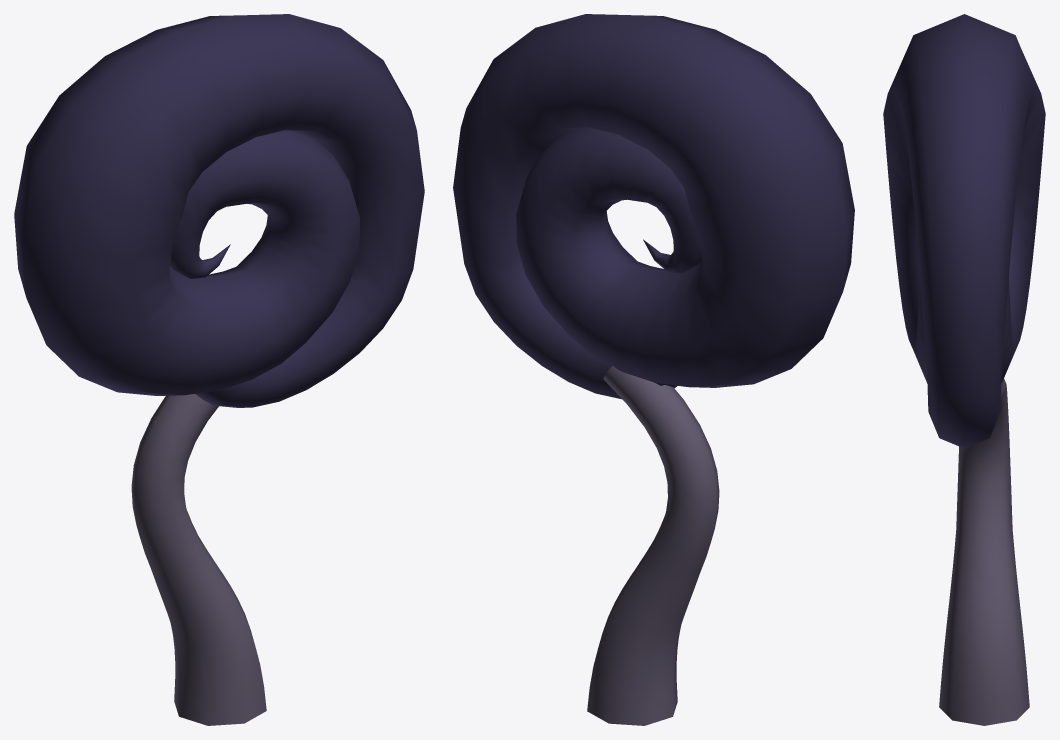
Rendered from quaternius-ultimate-space-tree-swirl-2.glb.
3 views of the same model, side by side, from view 1: azimuth 30°, elevation 25°; view 2: azimuth 150°, elevation 25°; view 3: azimuth 270°, elevation 25° (orthographic). The views are drawn at different scales.
Parts seen in each view (by area): view 1: Tree_Swirl_2; view 2: Tree_Swirl_2; view 3: Tree_Swirl_2.
Part boxes in pixels (x1=…): Tree_Swirl_2: x1=14, y1=14, x2=424, y2=725; Tree_Swirl_2: x1=453, y1=14, x2=854, y2=725; Tree_Swirl_2: x1=883, y1=14, x2=1045, y2=725.
Size of the model in its own units: 3.07 by 5.15 by 1.15.
Materials: 1 (1 with a texture image).
